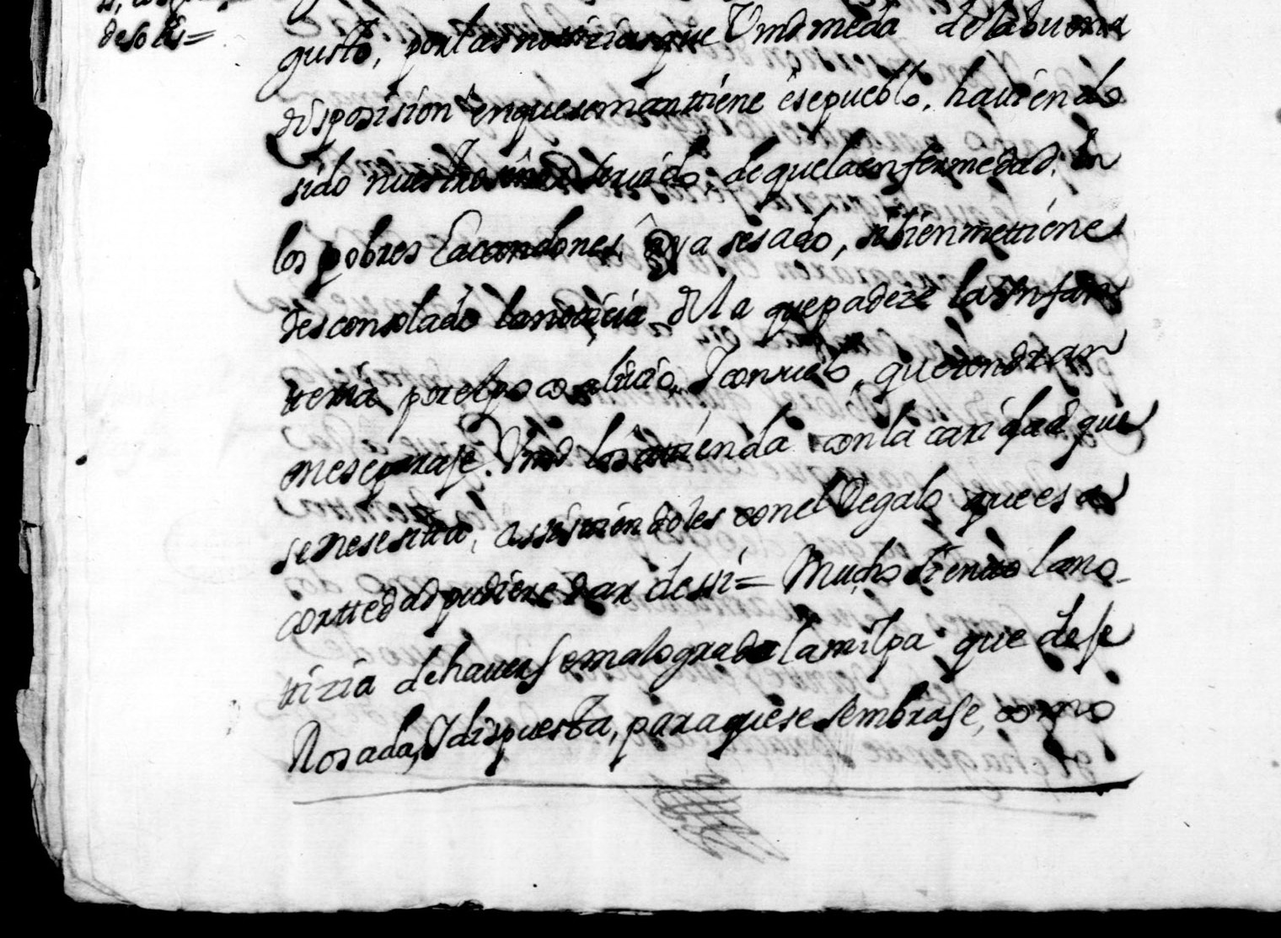lacandon: (430, 205, 624, 267)
